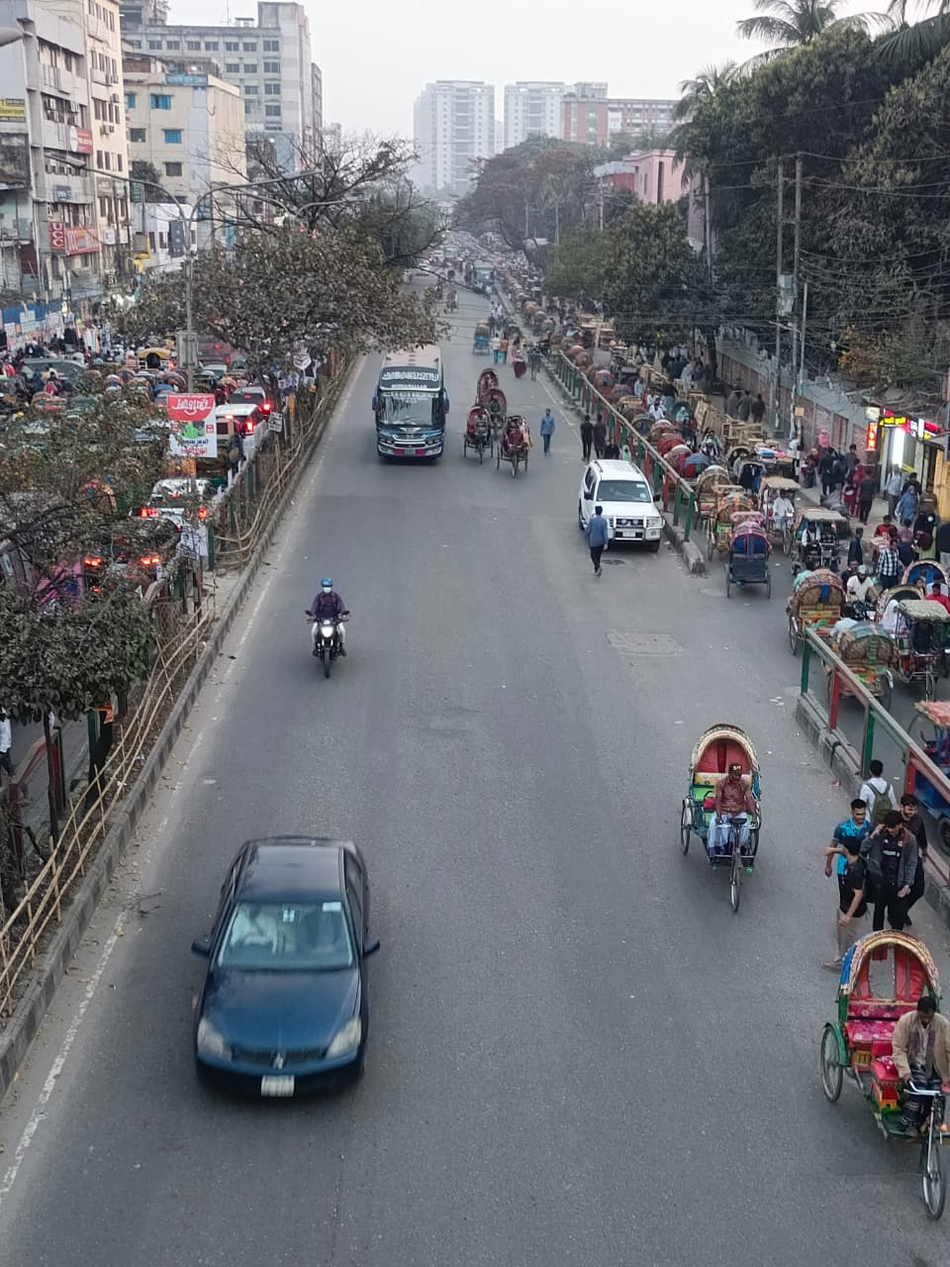Bikes: (290, 572, 369, 684)
Bus: (363, 344, 462, 474)
auto-ricksaw: (818, 918, 950, 1232), (670, 714, 781, 915), (785, 558, 849, 654), (723, 512, 778, 605), (497, 417, 536, 483), (460, 403, 496, 468)
private car: (175, 809, 400, 1124), (561, 450, 675, 558)
